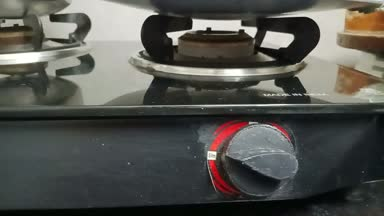noflame_gason: (166, 18, 310, 196)
